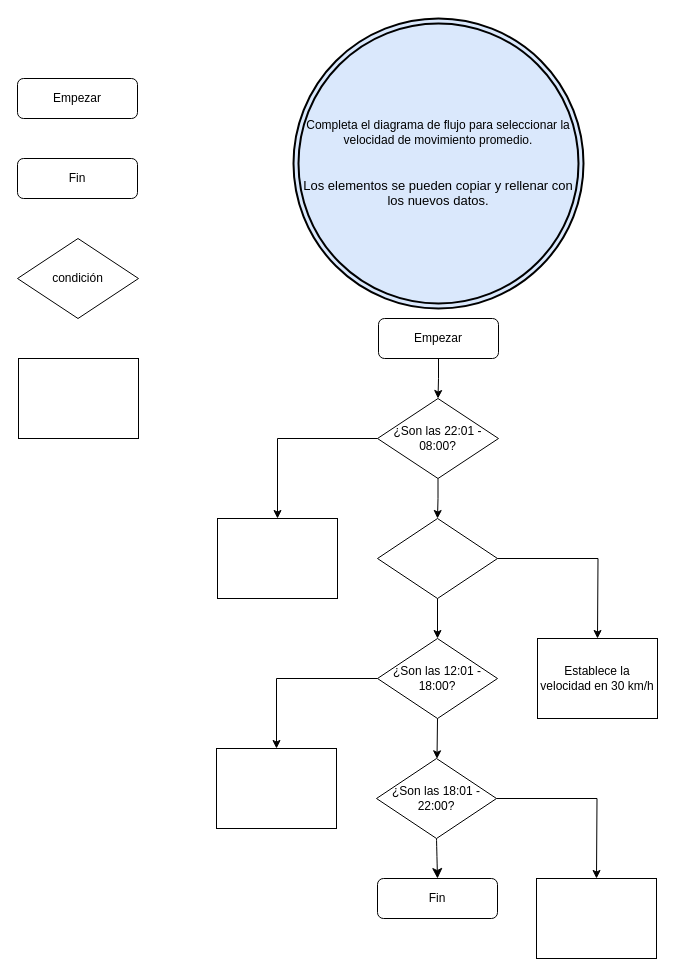
Image size: 675x976. Some labels were removed from this diagram. Each missing label, with the box of its shape:
acción: (18, 358, 138, 438)
Establece la velocidad en 25 km/h: (536, 878, 656, 958)
Establece la velocidad en 40 km/h: (216, 748, 336, 828)
Establece la velocidad en 45 km/h: (216, 518, 338, 598)
¿Son las 8:01 - 12:00?: (376, 518, 498, 598)
